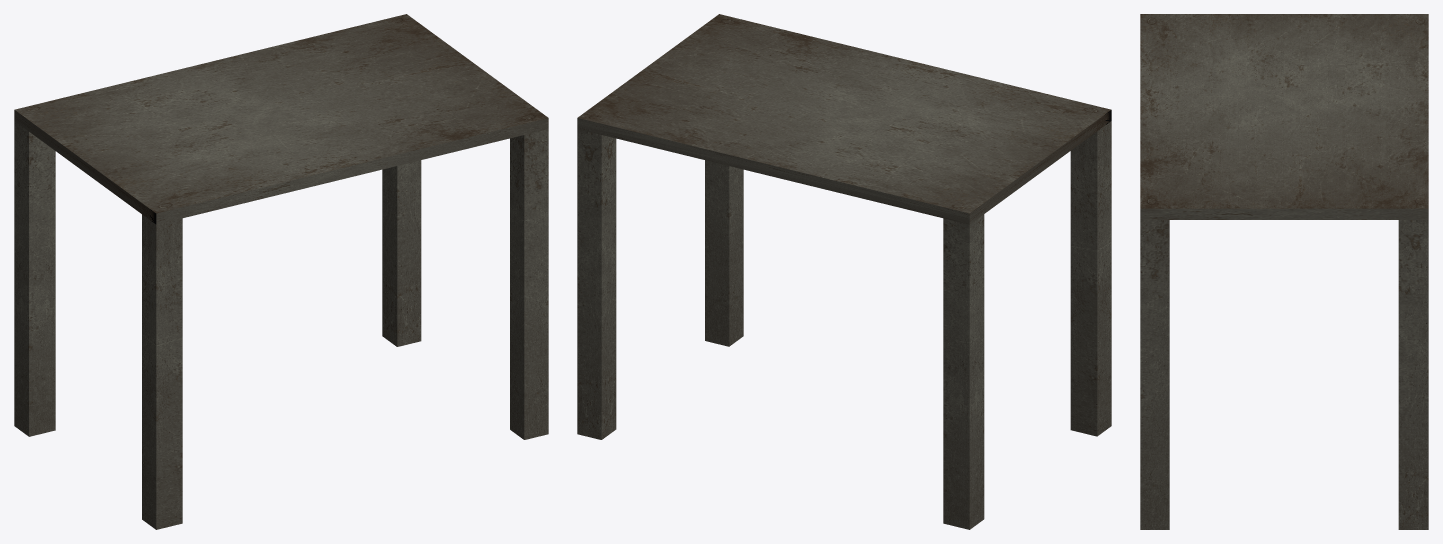
Rendered from table.glb.
3 views of the same model, side by side, from view 1: azimuth 30°, elevation 25°; view 2: azimuth 150°, elevation 25°; view 3: azimuth 270°, elevation 25° (orthographic).
Visible parts, largest first — view 1: Cube; view 2: Cube; view 3: Cube.
Part boxes in pixels (x1,y1,x2,y2): Cube: (14, 14, 548, 529); Cube: (577, 14, 1111, 529); Cube: (1140, 14, 1428, 529).
Bounding box in the file's own units: 5.89 × 4.54 × 3.69.
Materials: 1 (1 with a texture image).
